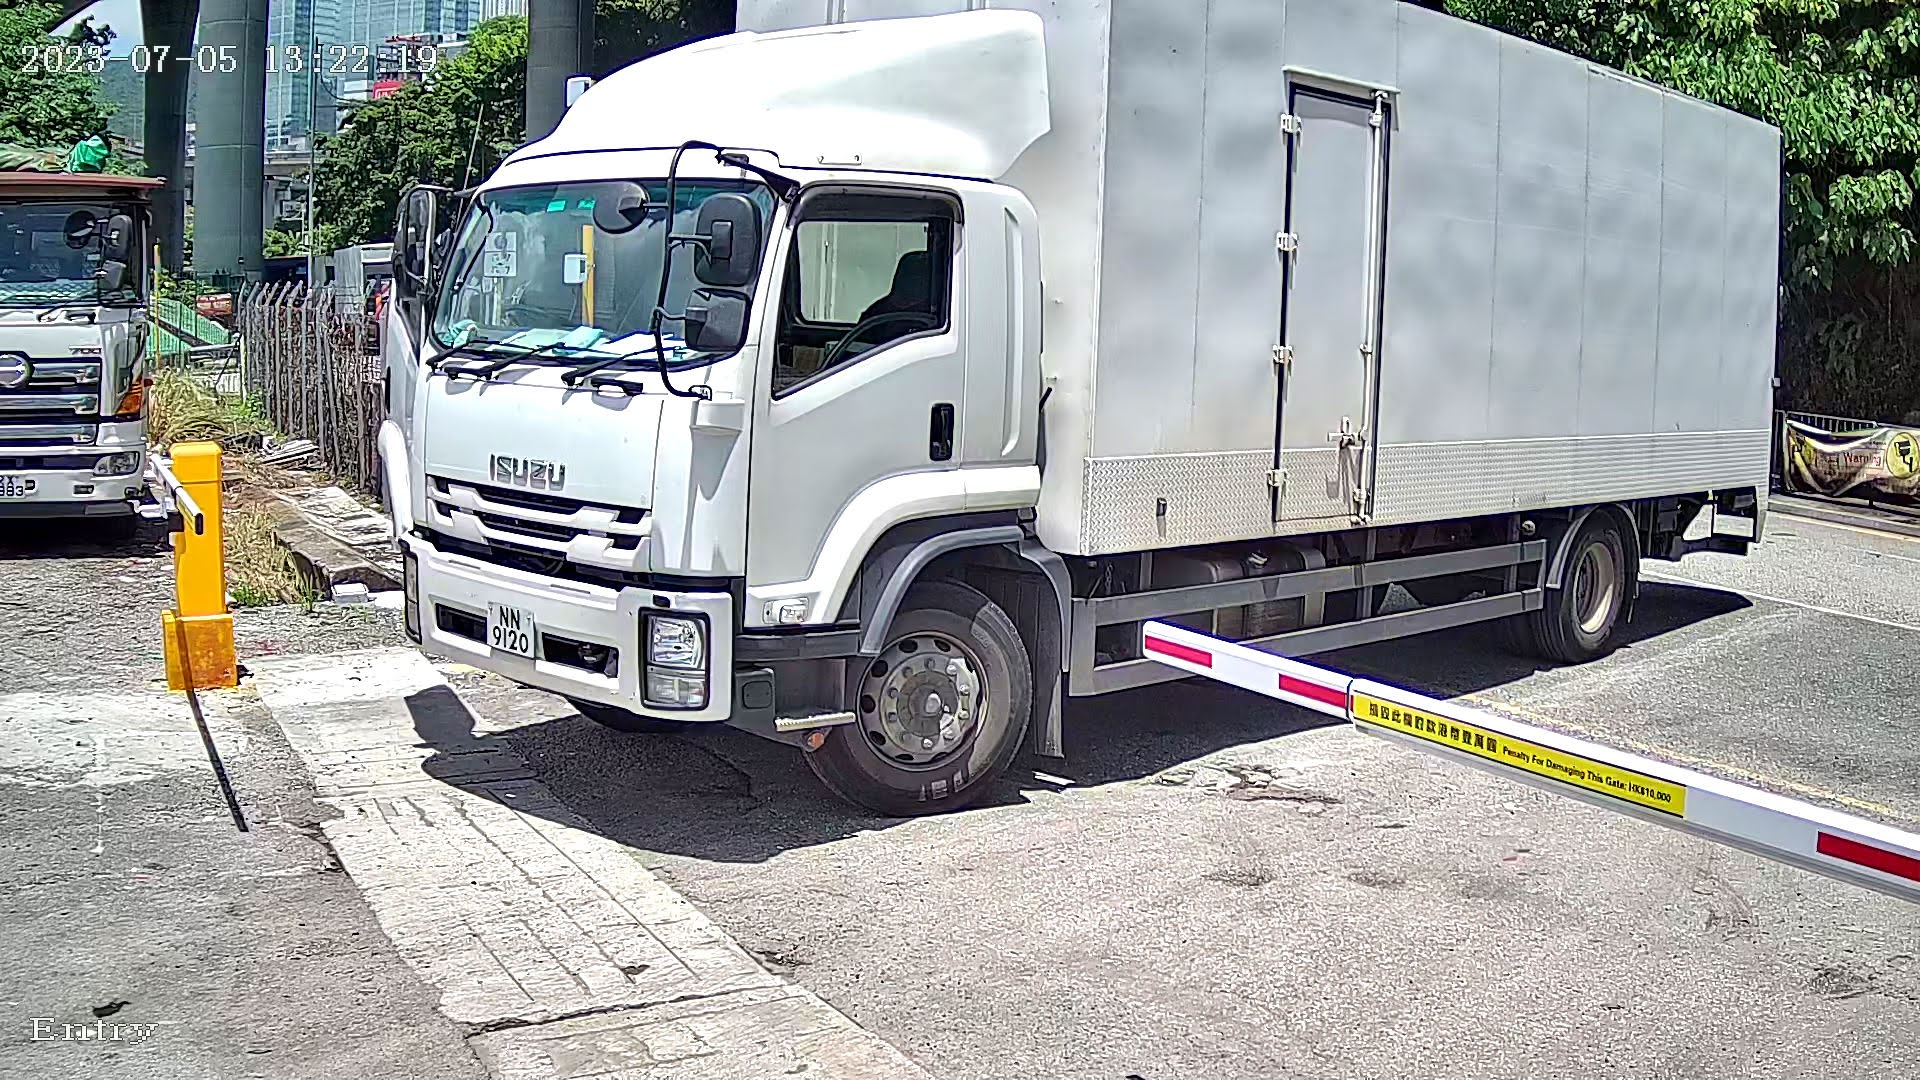truck: (393, 1, 1822, 793)
